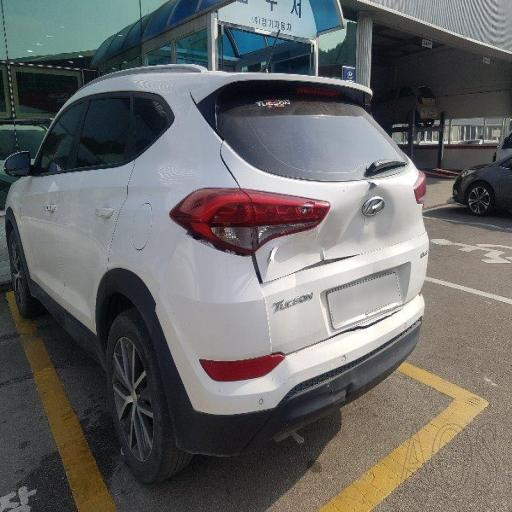dent: (202, 165, 432, 272), (40, 163, 148, 269)
